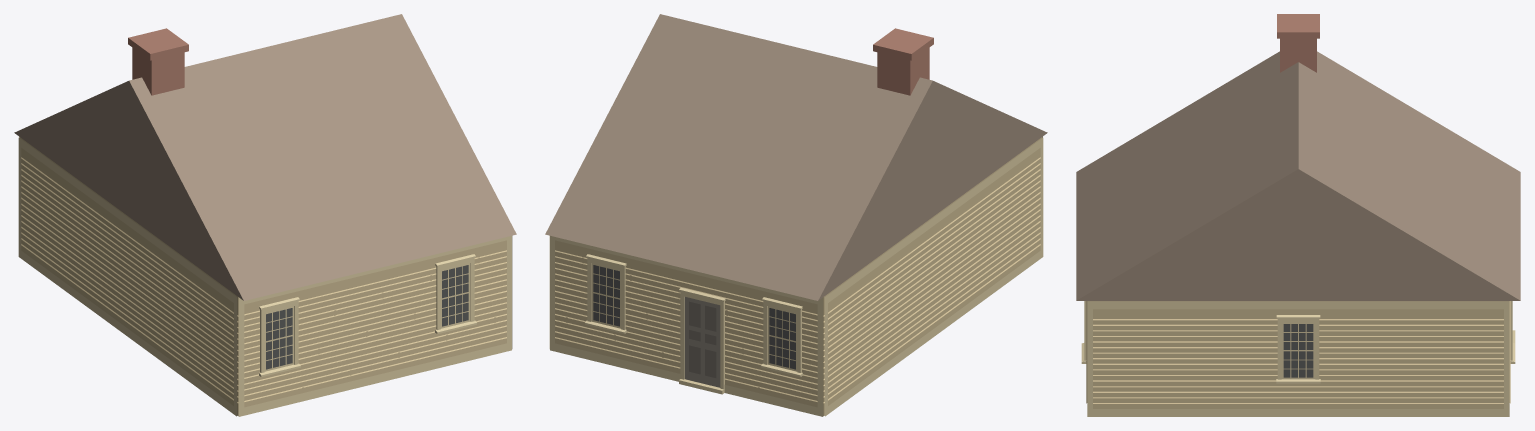
Rendered from recon_1835_north_d5_068__inferred_1835.glb.
3 renders of one model, left to right at view 1: azimuth 30°, elevation 25°; view 2: azimuth 150°, elevation 25°; view 3: azimuth 270°, elevation 25°, orthographic. The views are drawn at different scales.
Parts seen in each view (by area): view 1: recon_1835_north_d5_068__inferred_1835; view 2: recon_1835_north_d5_068__inferred_1835; view 3: recon_1835_north_d5_068__inferred_1835.
Boxes of the visible parts, <box> form: recon_1835_north_d5_068__inferred_1835: <box>14,14,516,416</box>; recon_1835_north_d5_068__inferred_1835: <box>545,14,1047,416</box>; recon_1835_north_d5_068__inferred_1835: <box>1076,14,1520,416</box>.
Size of the model in its own units: 7.08 by 6.99 by 10.11.
